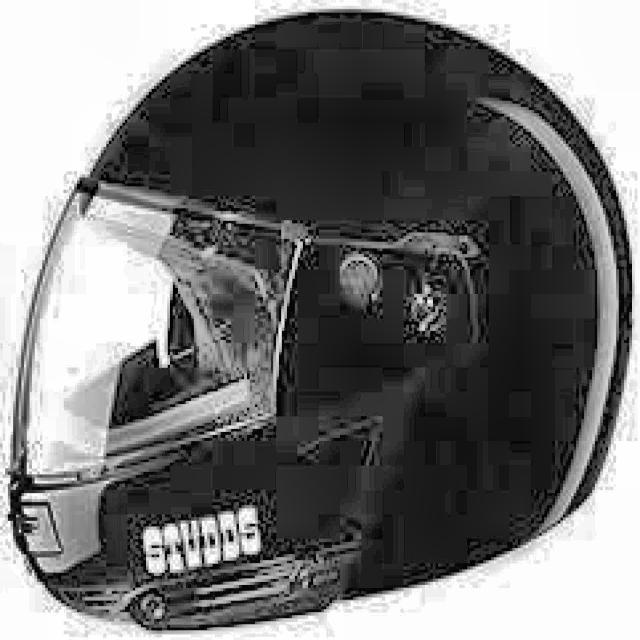Helmet: (2, 4, 640, 630)
